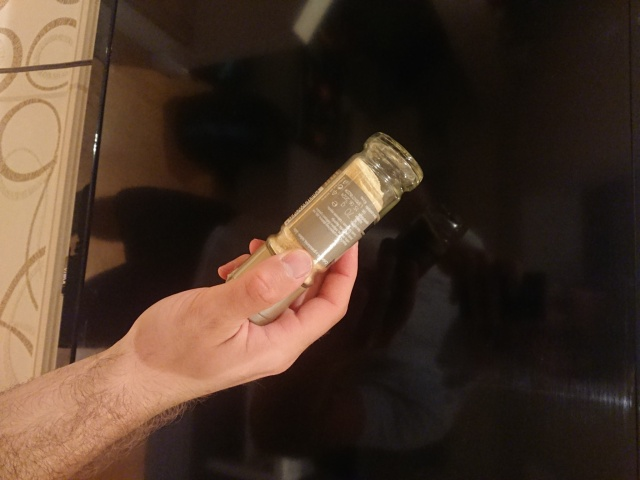Kotanyi Garlic Granules 70g: (218, 131, 427, 328)
